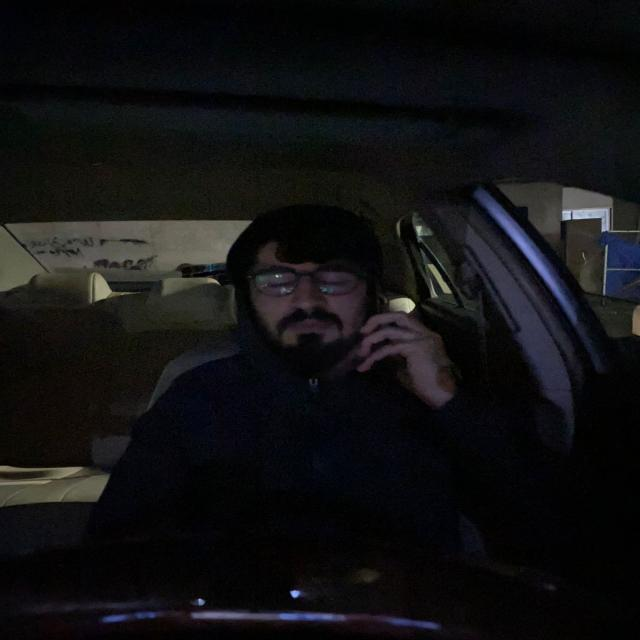drowsy: (228, 195, 402, 384)
